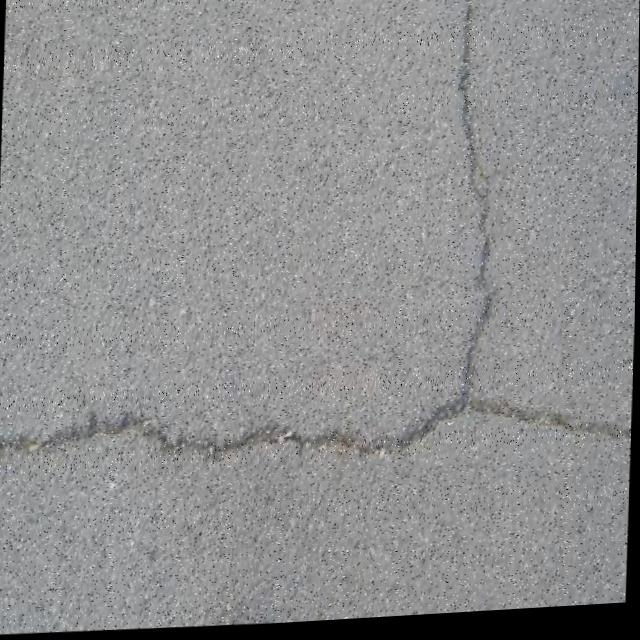Crack: (0, 375, 633, 503), (418, 0, 503, 406)
